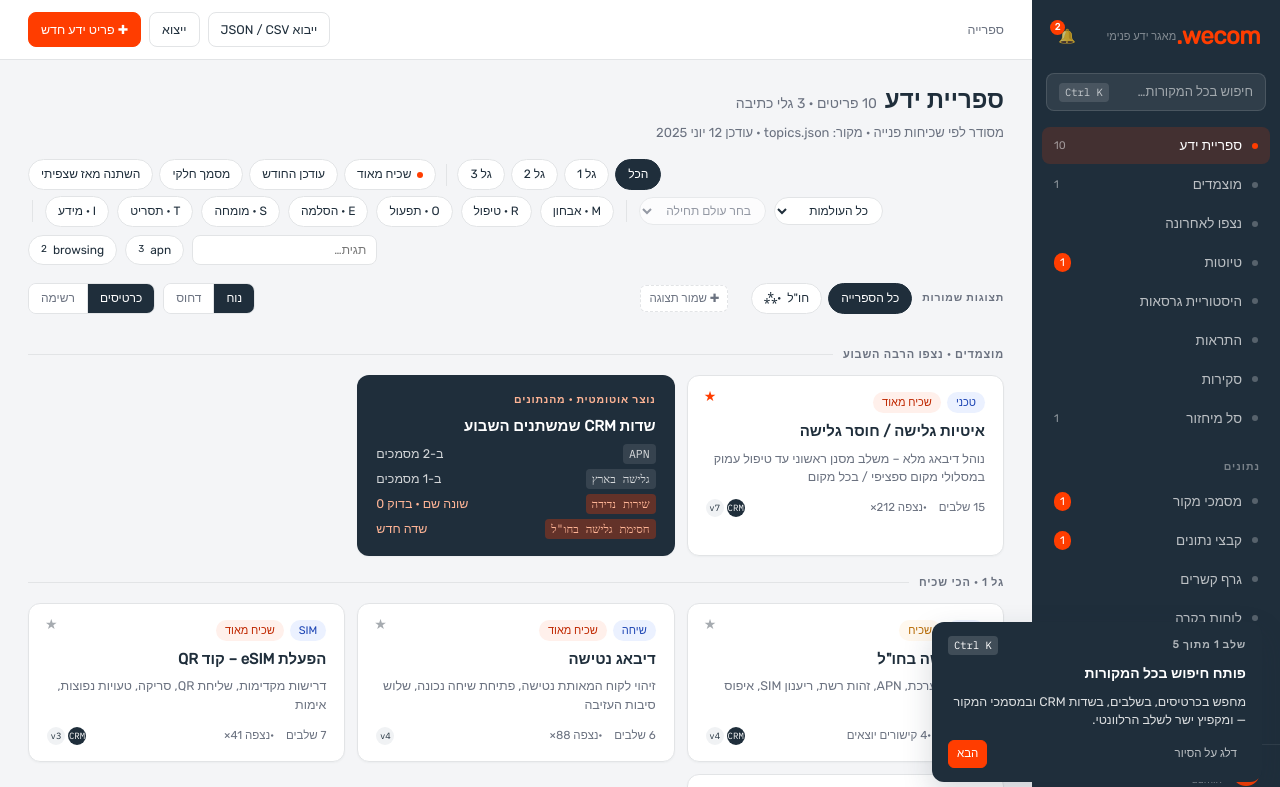
Test: palette · operator actions › offers the admin and sync destinations, gated on the same permissions as the routes
The width and height of the screenshot is (1280, 787).
Click the button labelled "חיפוש בכל המקורות… Ctrl K" at x=1156, y=92, box [1046,73,1266,111]
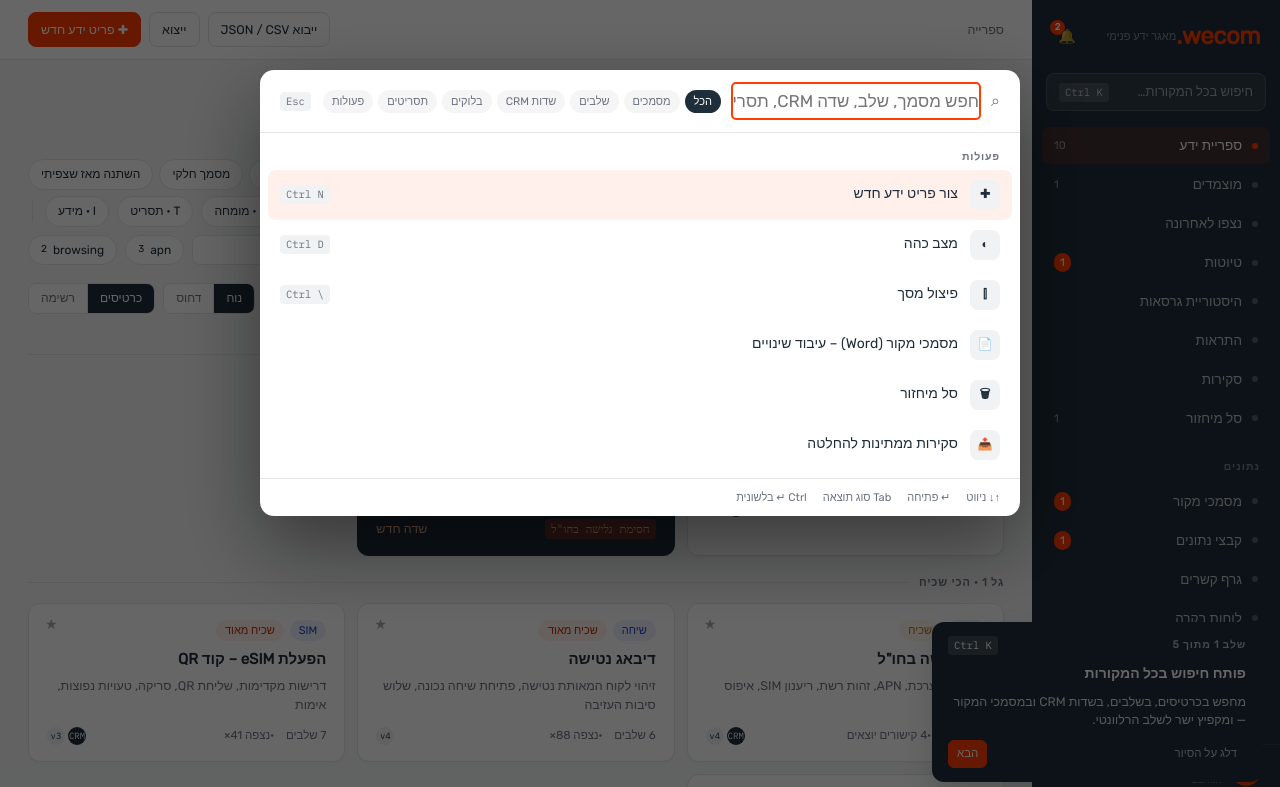
Type "תור סנכרון" into the field with placeholder "חפש מסמך, שלב, שדה CRM, תסריט או פעולה…" at x=856, y=101, box [733,84,979,118]
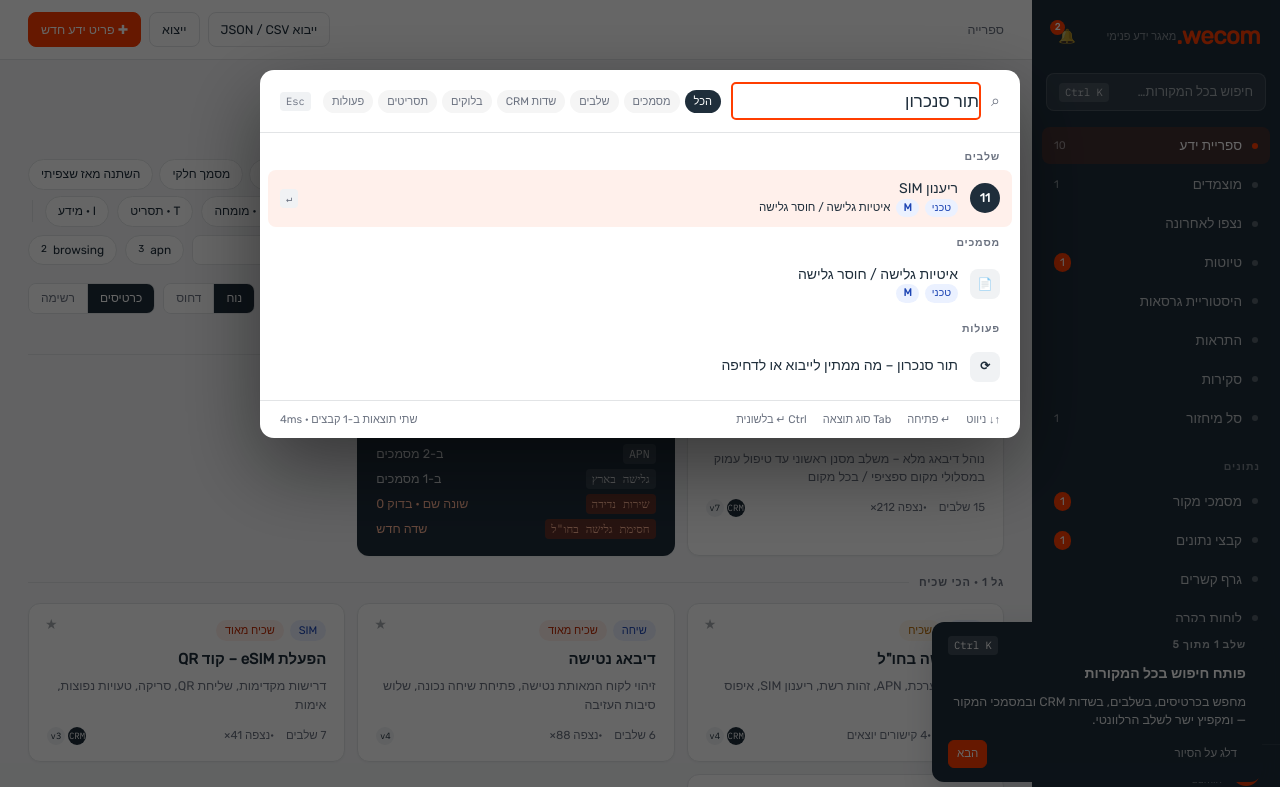
Click the text "תור סנכרון – מה ממתין לייבוא או לדחיפה" at x=840, y=366, box [721,357,958,374]
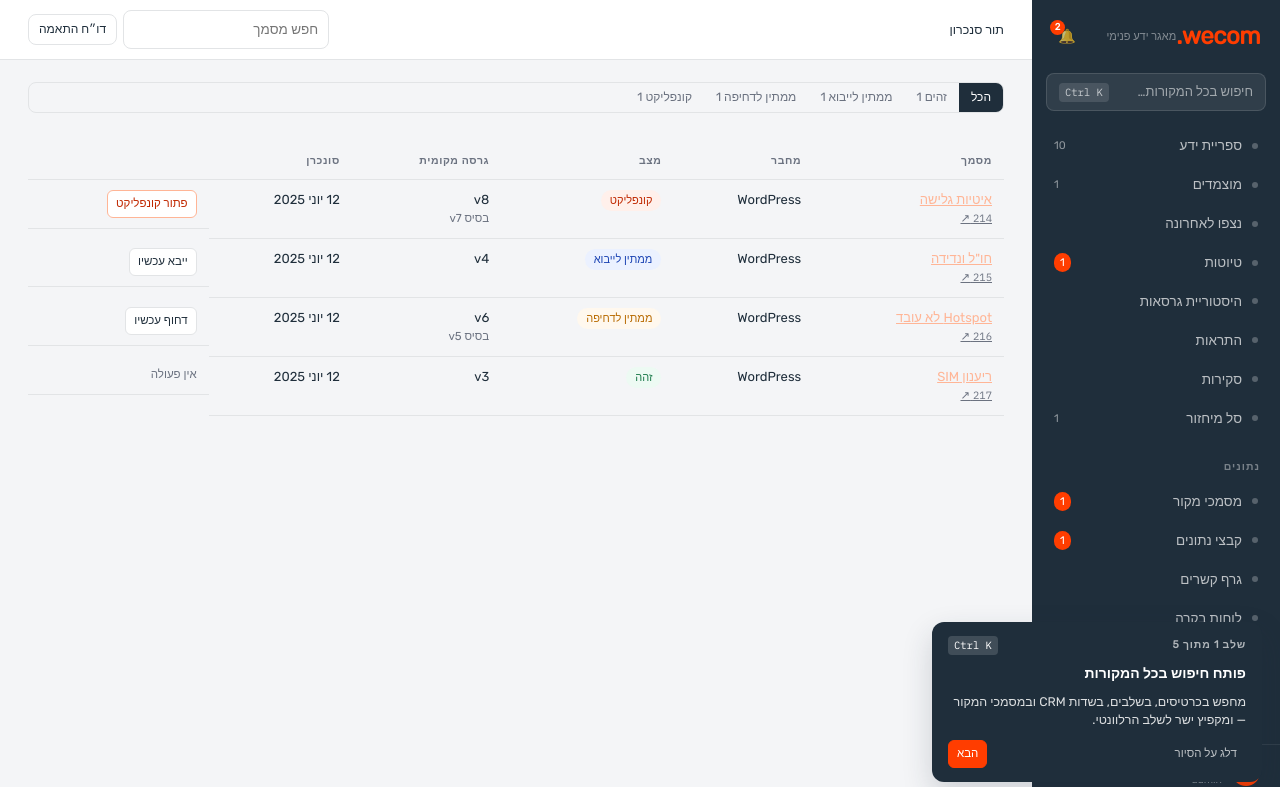
Now the button "דו״ח התאמה" is shown, box [28,14,117,45]
